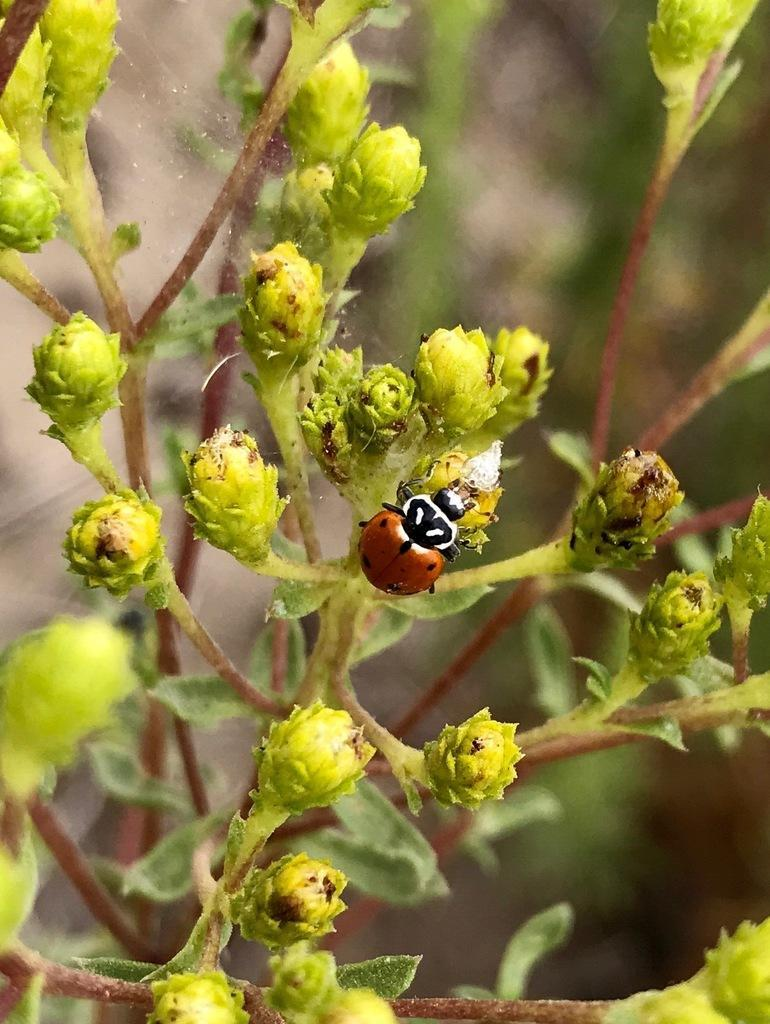ladybug: (357, 460, 495, 601)
